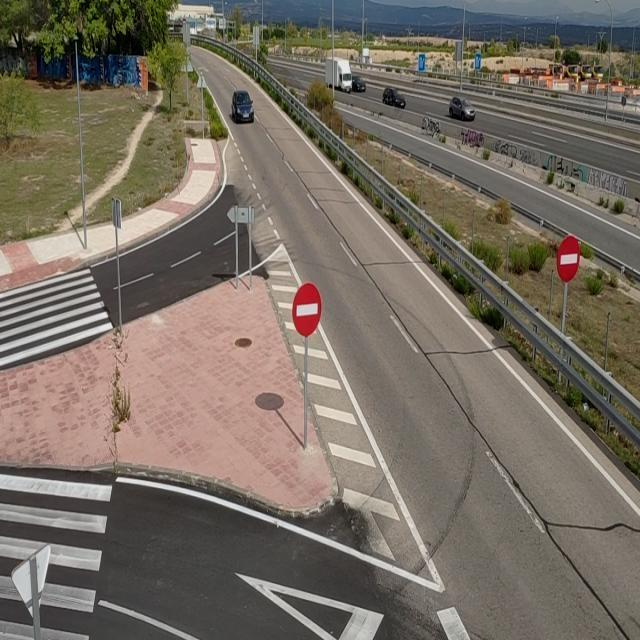Car: (224, 75, 270, 131), (446, 93, 482, 125), (376, 84, 412, 106), (352, 69, 378, 94)
Van: (320, 53, 355, 95)
